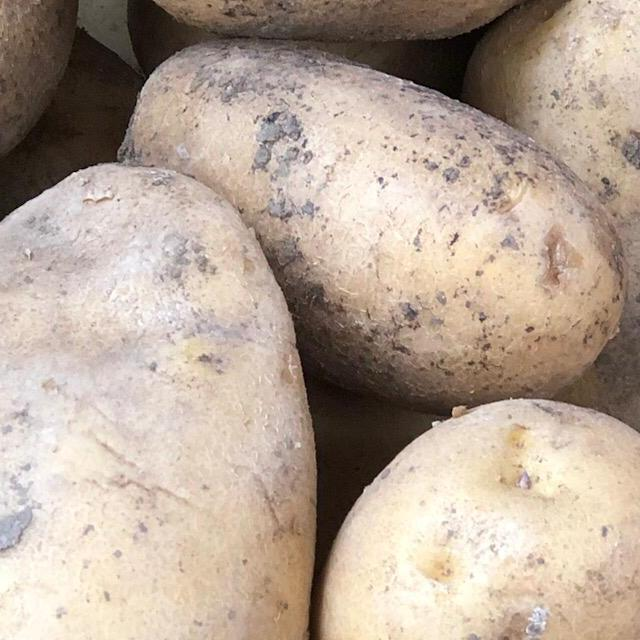potato: (97, 10, 640, 402), (0, 125, 340, 640)
